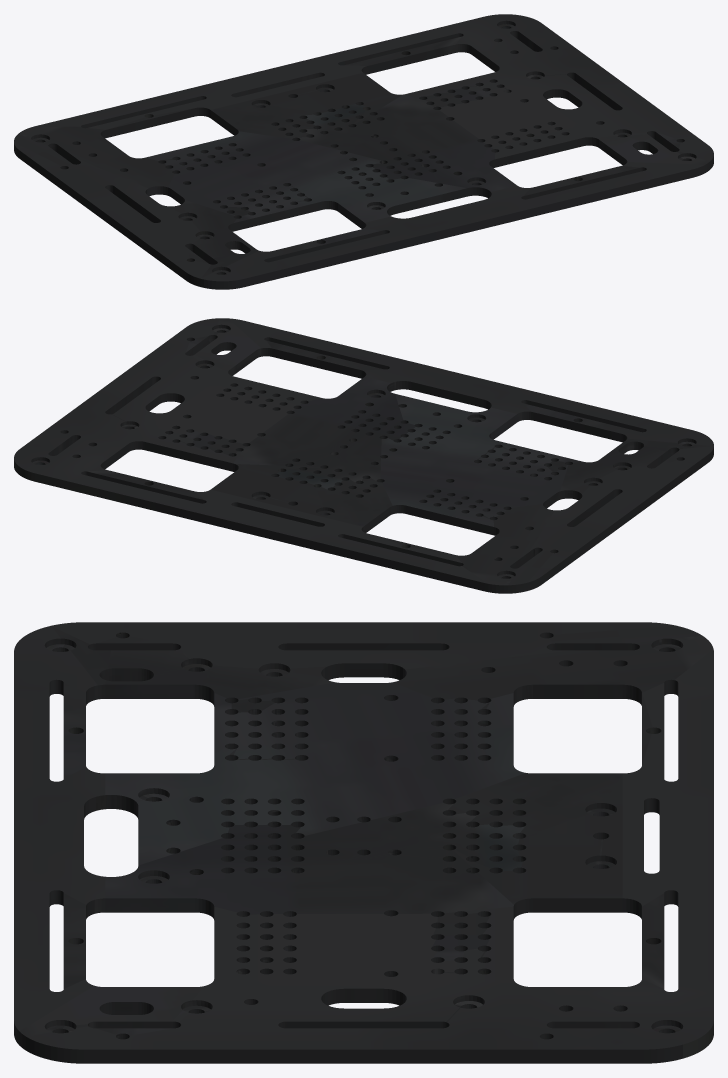
The model's file is chassis-plate.glb.
The picture shows the model from 3 angles, top to bottom: view 1: azimuth 30°, elevation 25°; view 2: azimuth 150°, elevation 25°; view 3: azimuth 270°, elevation 25°; orthographic projection. The views are drawn at different scales.
Parts seen in each view (by area): view 1: chassis_plate; view 2: chassis_plate; view 3: chassis_plate.
Part boxes in pixels (x1=…): chassis_plate: x1=14, y1=14, x2=713, y2=289; chassis_plate: x1=14, y1=318, x2=713, y2=593; chassis_plate: x1=14, y1=622, x2=713, y2=1063.
Bounding box in the file's own units: 0.26 × 0.004 × 0.18.
1 material, 1 textured.
